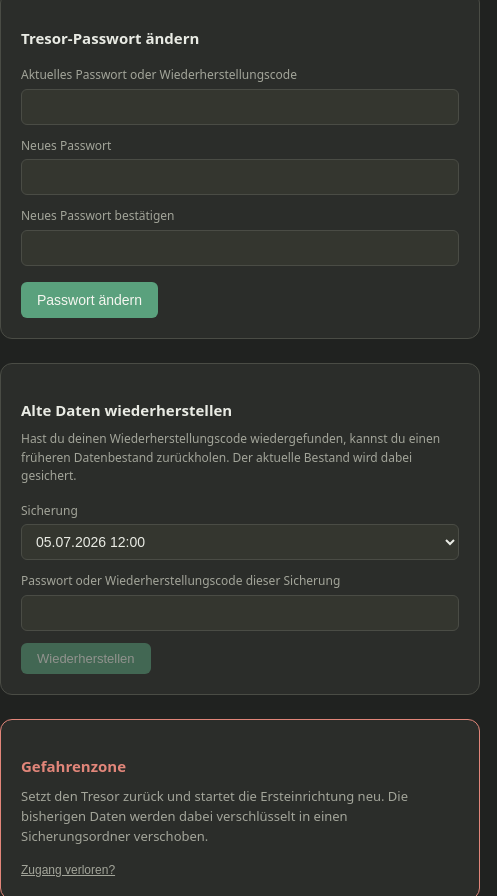
SettingsPage › vault restore section › surfaces a rejected restore (wrong secret) as an error
(page scrolled)
Type "falsch" into the password field labelled "Passwort oder Wiederherstellungscode dieser Sicherung" at (240, 613), box left=21, top=595, right=459, bottom=631
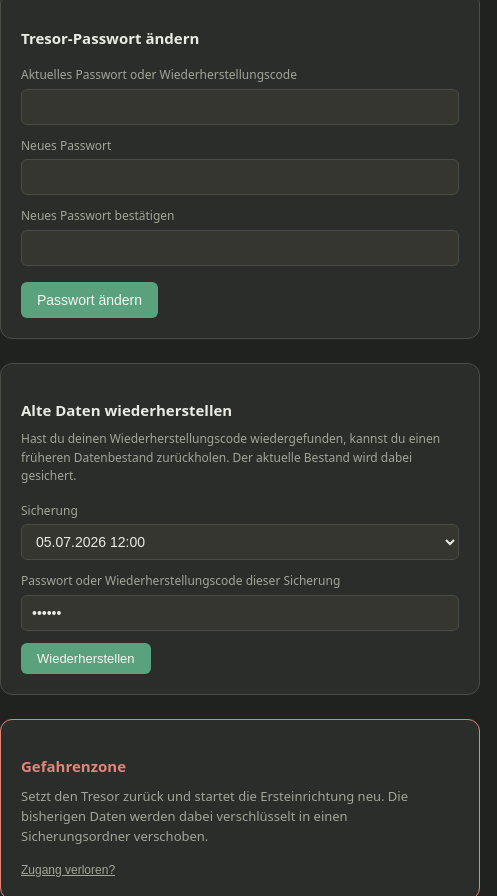
Click the button "Wiederherstellen" at (86, 658), box left=21, top=643, right=150, bottom=674
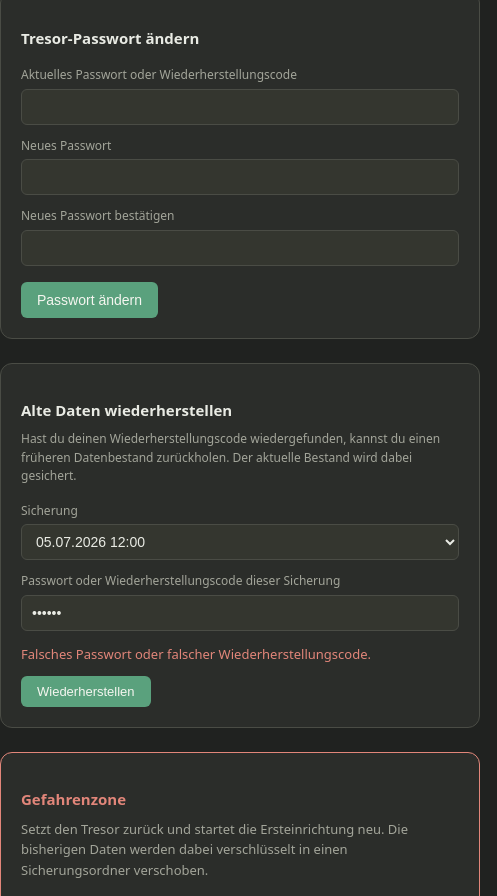
Result: the text "Falsches Passwort oder falscher Wiederherstellungscode." is shown at left=21, top=645, right=371, bottom=663
